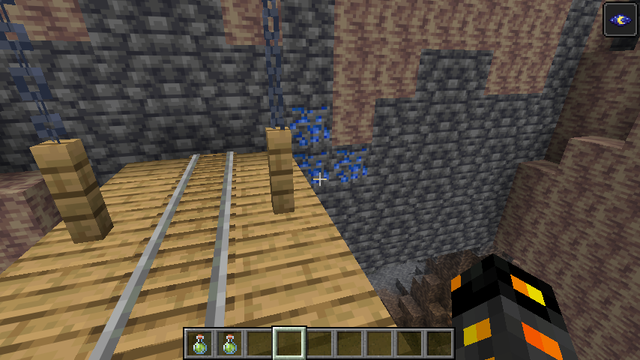lapis: (291, 106, 370, 183)
